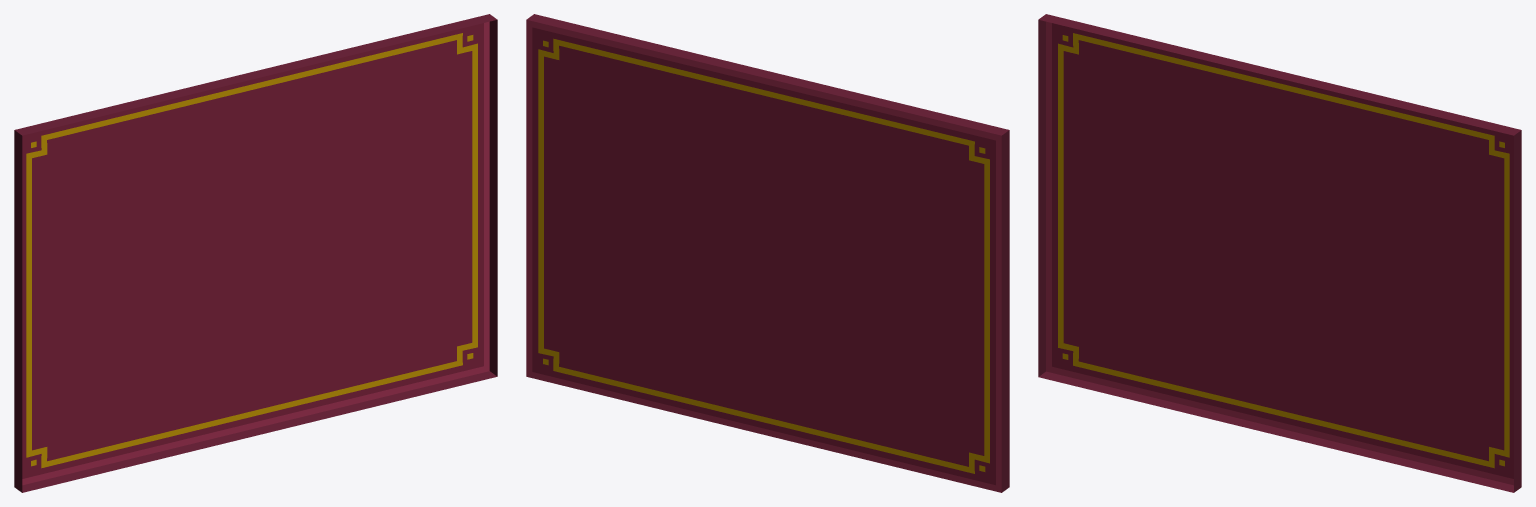
The model's file is HolidayCarpetRed.fbx.
3 renders of one model, left to right at view 1: azimuth 30°, elevation 25°; view 2: azimuth 150°, elevation 25°; view 3: azimuth 330°, elevation 25°, orthographic.
Visible parts, largest first — view 1: HolidayCarpetRed; view 2: HolidayCarpetRed; view 3: HolidayCarpetRed.
Boxes of the visible parts, left/top/right/bottom form: HolidayCarpetRed: left=14, top=14, right=497, bottom=492; HolidayCarpetRed: left=526, top=14, right=1009, bottom=492; HolidayCarpetRed: left=1038, top=14, right=1521, bottom=492.
Bounding box in the file's own units: 700 × 502 × 19.83.
